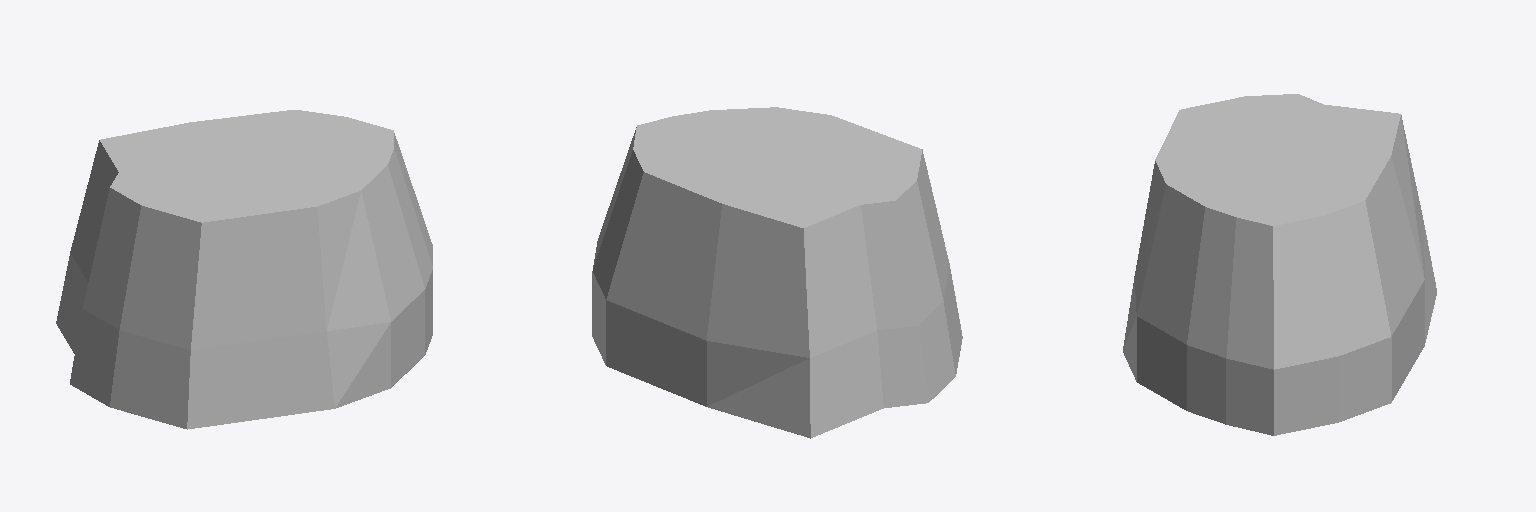
File: Rock1.obj
3 views of the same model, side by side, from view 1: azimuth 30°, elevation 25°; view 2: azimuth 150°, elevation 25°; view 3: azimuth 270°, elevation 25° (orthographic).
Parts seen in each view (by area): view 1: Rock1; view 2: Rock1; view 3: Rock1.
Part boxes in pixels (bbox=[...]): Rock1: bbox=[56, 110, 432, 429]; Rock1: bbox=[592, 107, 962, 438]; Rock1: bbox=[1123, 94, 1436, 435].
Size of the model in its own units: 14.85 by 7.79 by 11.66.